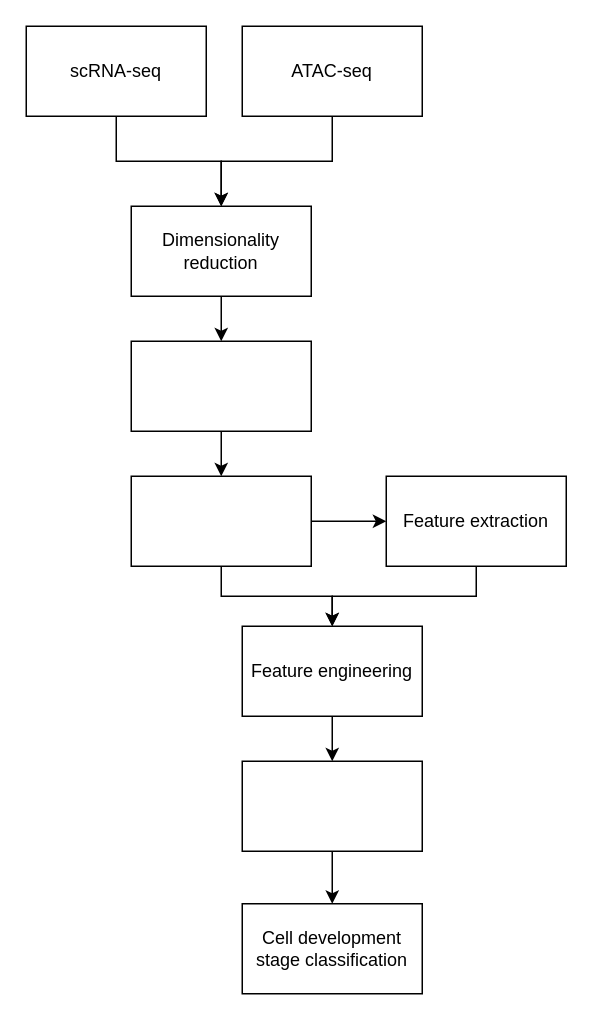
Some shapes in this 593 by 1020 pixel diagram are drawn without their labels. Each missing label, with the centre of its shape:
Differential expression: (x=220, y=520)
Machine Learning model benchmarking: (x=331, y=805)
Removal of unwanted variation: (x=220, y=385)
